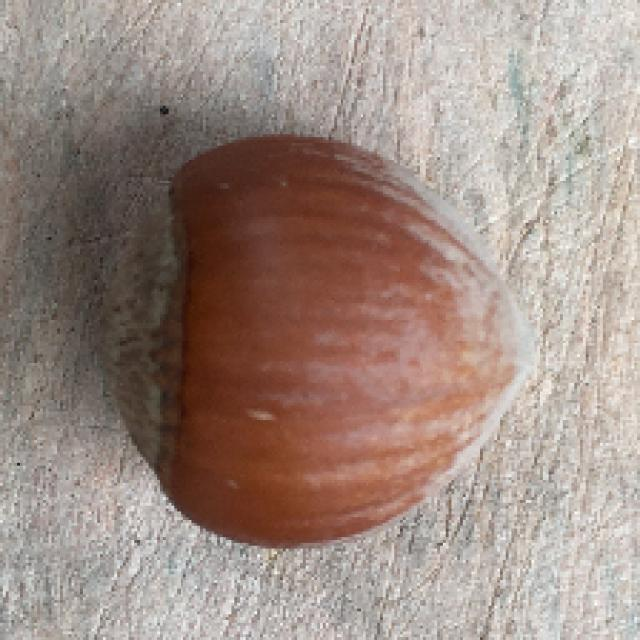QualityHazelnut: (103, 132, 535, 546)
